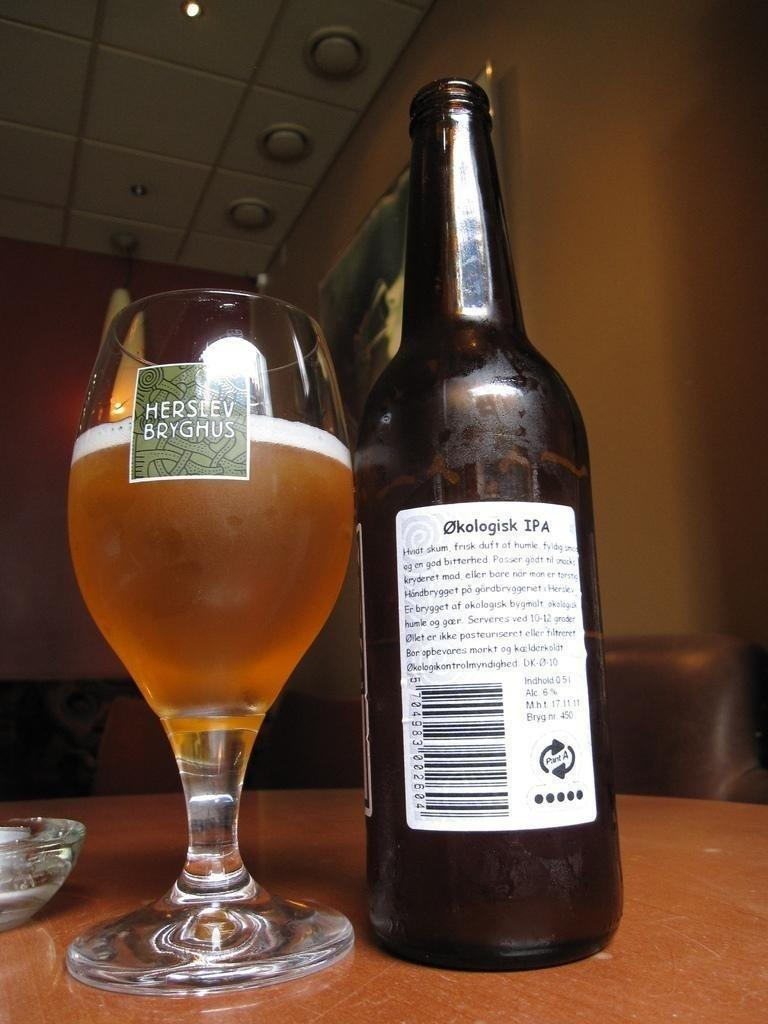bottle-glass: (348, 76, 625, 973)
glass-wine: (63, 289, 357, 1000)
